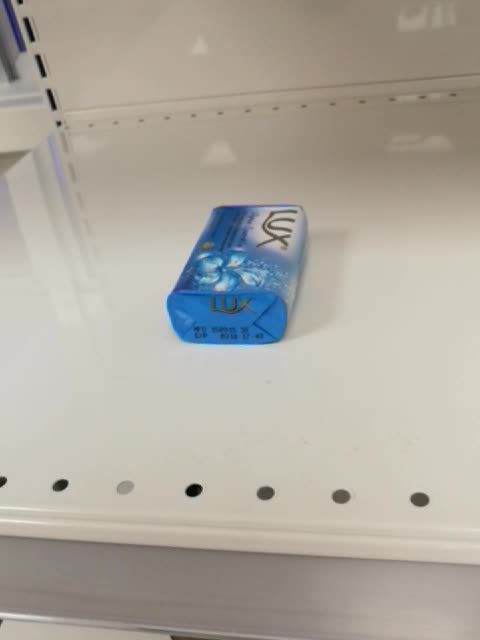soap: (162, 201, 310, 348)
